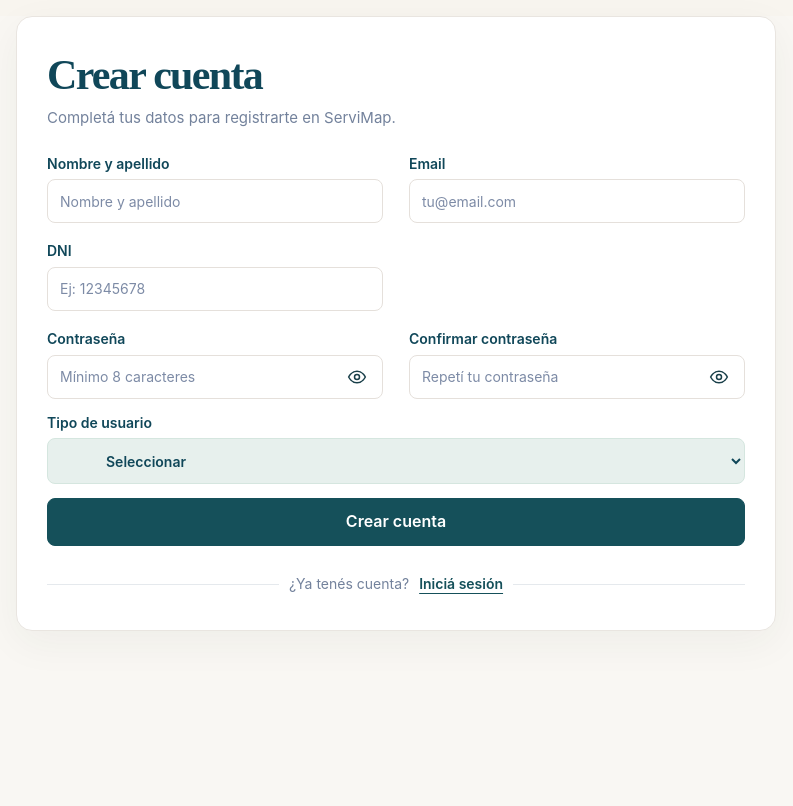
Scenario: Registro de usuario › detecta contraseñas diferentes
The width and height of the screenshot is (793, 806).
Type "clave123" into the password field labelled "Contraseña" at (215, 377), box [47,355,383,399]
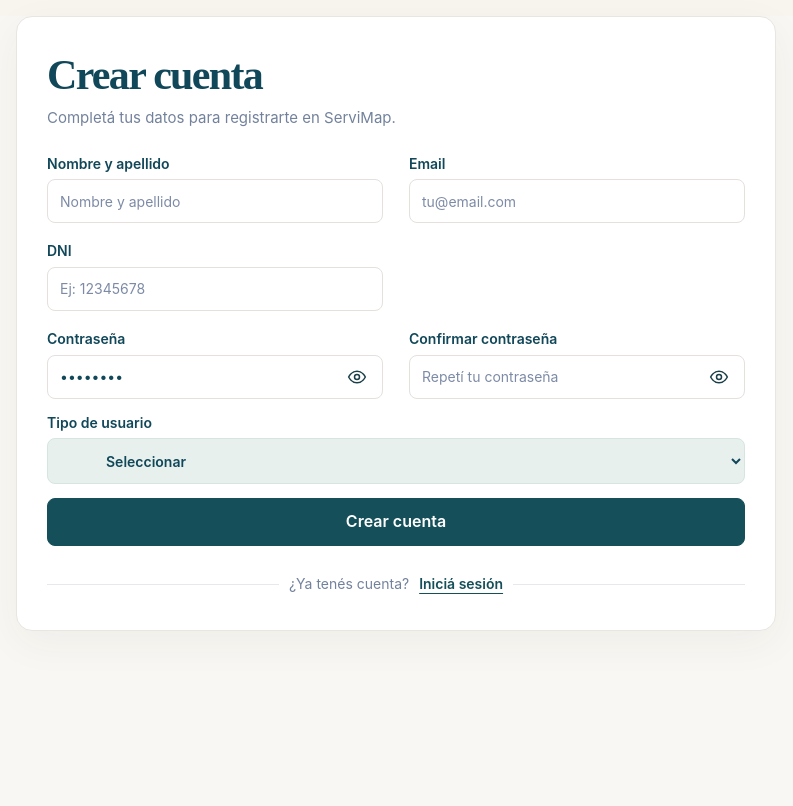
Type "otraClave" into the password field labelled "Confirmar contraseña" at (577, 377), box [409,355,745,399]
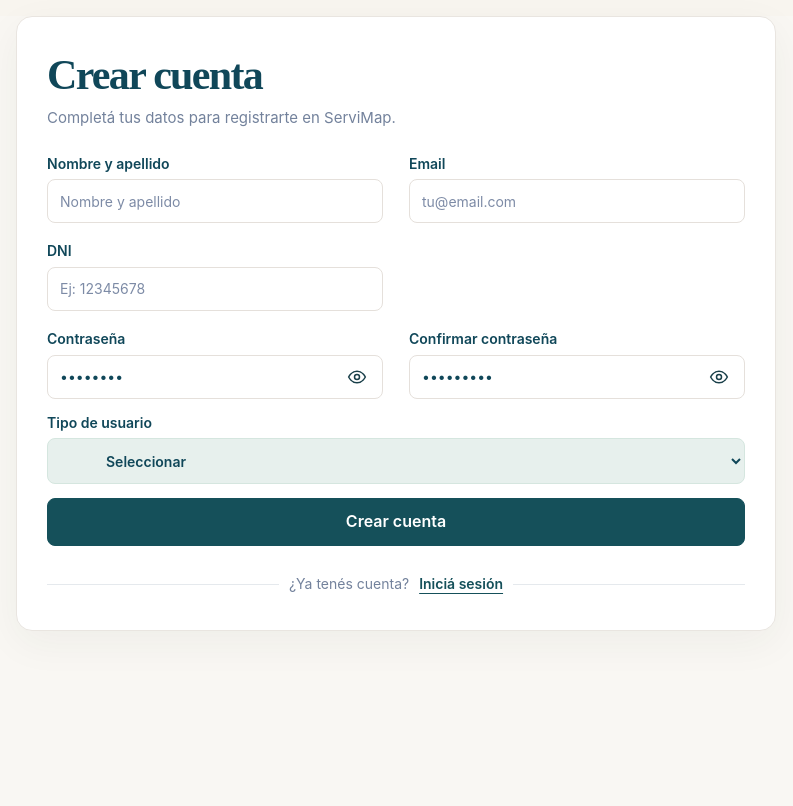
Click the button "Crear cuenta" at (396, 522), box [47,498,745,546]
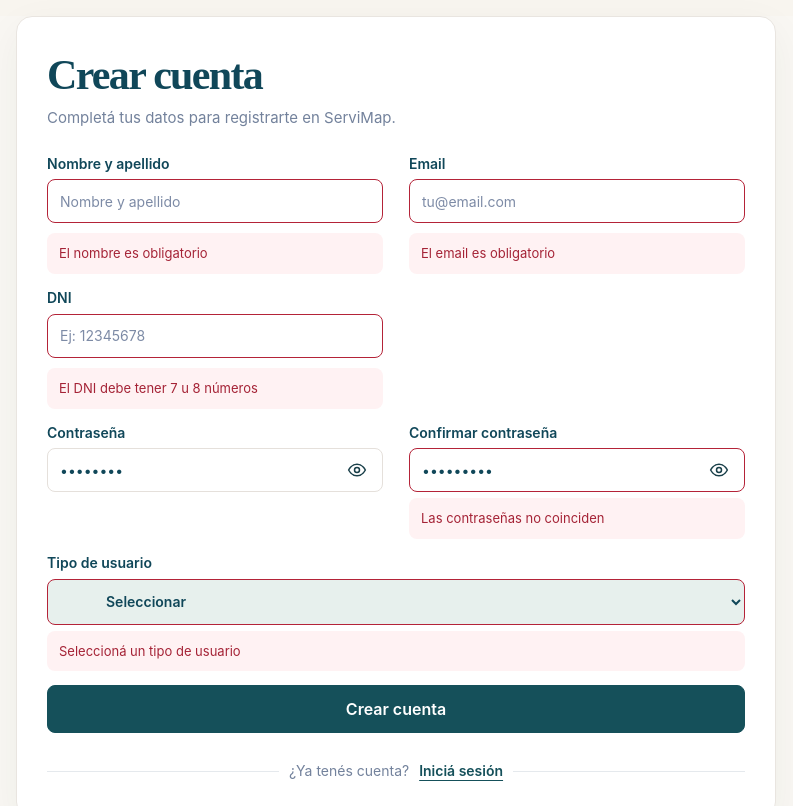
Check: the text "Las contraseñas no coinciden" is shown, box [409,498,745,539]
